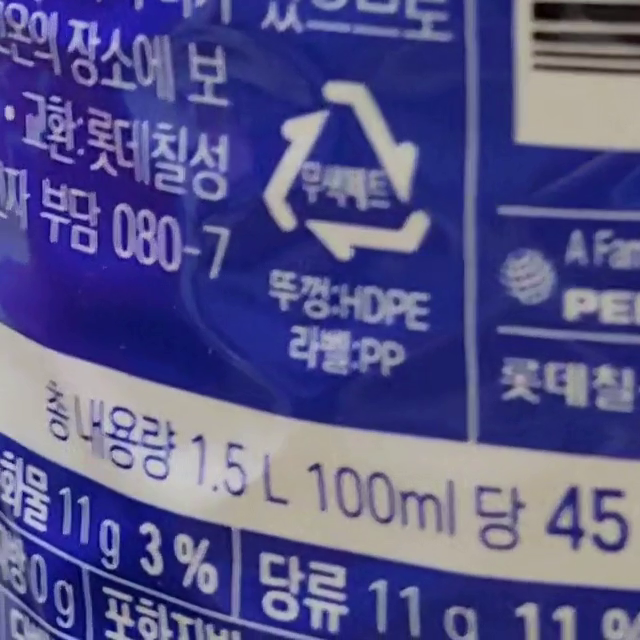ColorlessPet: (265, 83, 431, 262)
